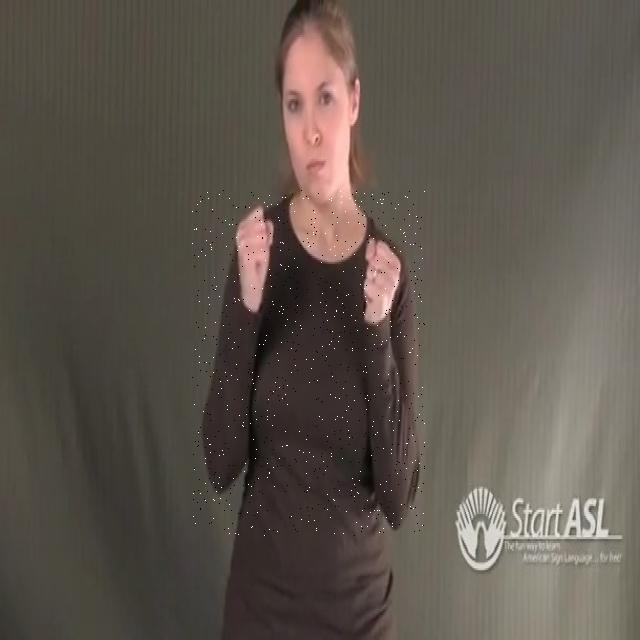cold: (192, 190, 425, 536)
